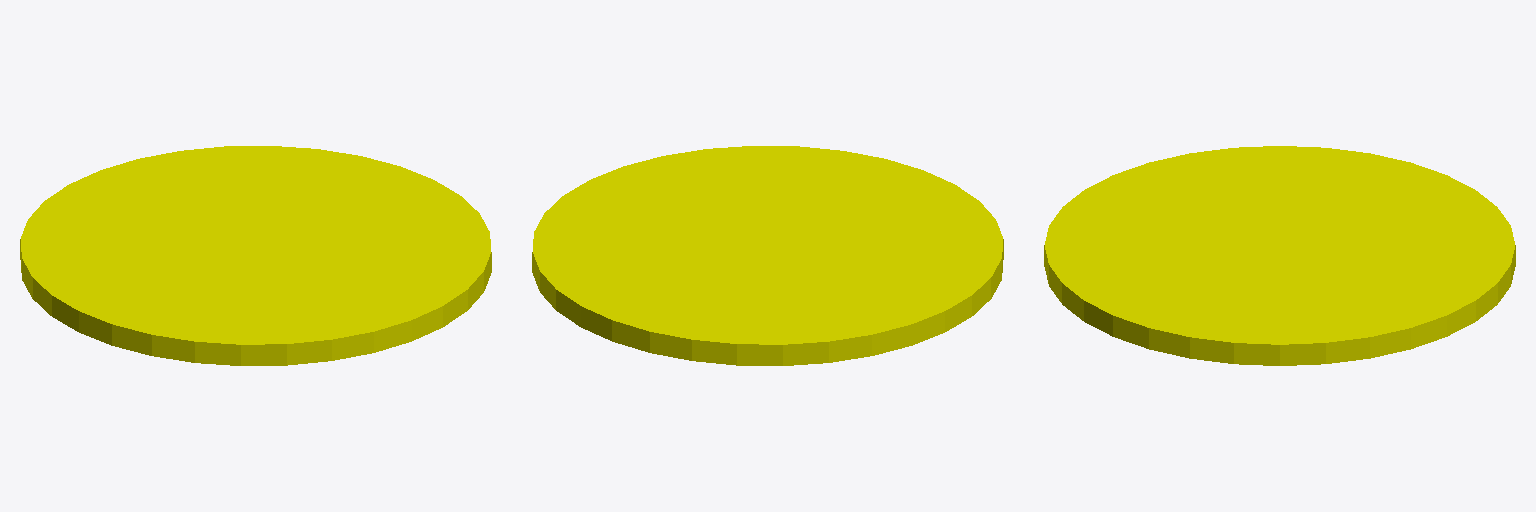
robot.urdf — ghost_cylinder:
<?xml version="1.0" ?>
<robot name="ghost_cylinder">
  <link name="cylinder_base_link">
    <contact>
    </contact>
    <inertial>
      <mass value="0"/>
      <inertia ixx="1" ixy="0" ixz="0" iyy="1" iyz="0" izz="1"/>
      <origin rpy="0 0 0" xyz="0 0 0"/>
    </inertial>
    <visual>
      <geometry>
        <cylinder length="0.001" radius="0.01"/>
      </geometry>
      <origin rpy="0 0 0" xyz="0 0 0"/>
       <material name="blue">
        <color rgba="0.9 0.9 0 1.0"/>
      </material>
    </visual>
  </link>
</robot>

--- Render facts (derived) ---
The picture shows the robot from 3 angles, left to right: view 1: azimuth 30°, elevation 25°; view 2: azimuth 150°, elevation 25°; view 3: azimuth 270°, elevation 25°; orthographic projection.
Model ghost_cylinder with 1 links and 0 joints (none), rooted at cylinder_base_link, posed all joints at 0.
Visible links, largest first — view 1: cylinder_base_link; view 2: cylinder_base_link; view 3: cylinder_base_link.
Link boxes in pixels (<box>): cylinder_base_link: <box>20,146,491,365</box>; cylinder_base_link: <box>532,146,1003,365</box>; cylinder_base_link: <box>1044,146,1515,365</box>.
Size in the robot's own frame: 0.02 by 0.02 by 0.001 metres.
Geometry: primitives only (box / cylinder / sphere), no mesh files.